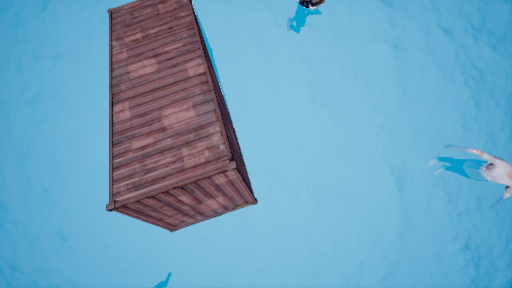person: (437, 144, 512, 204)
